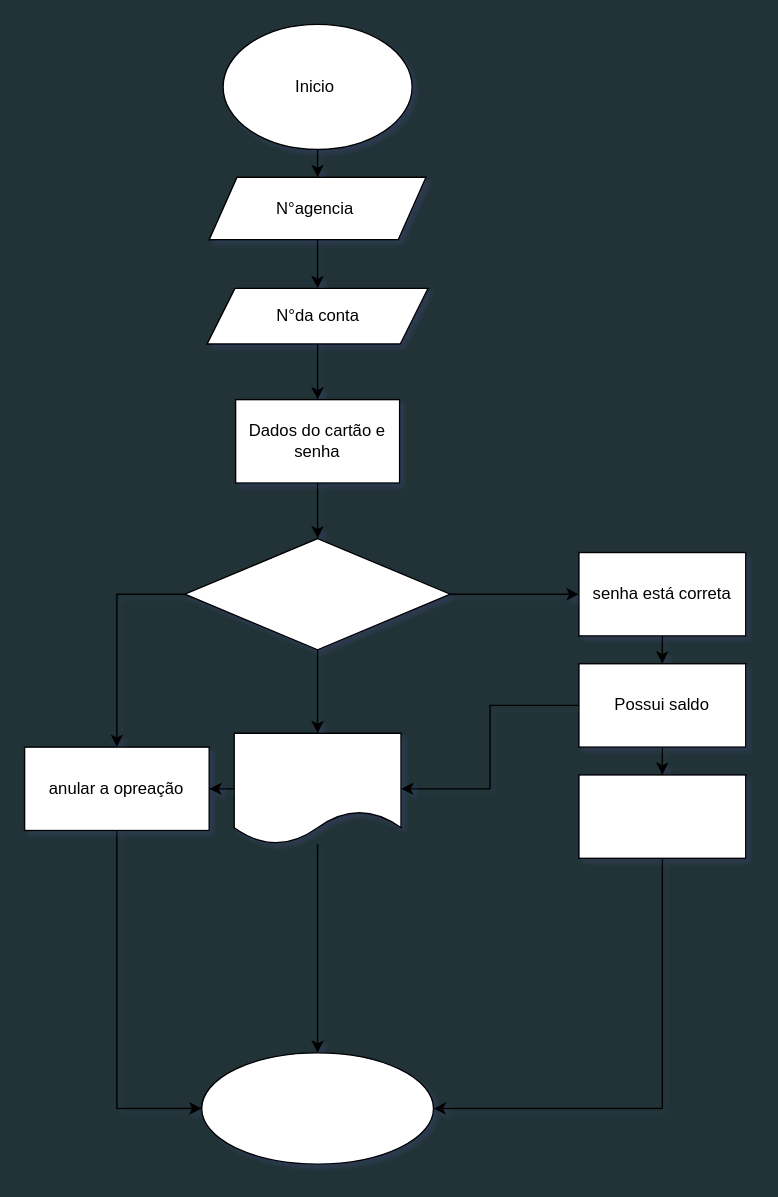
Some shapes in this 778 by 1197 pixel diagram are drawn without their labels. Here are the shapes that lost their labels. From the top down, the box of each, then its label:
(183, 537, 450, 650): Todos o dados estão corretos
(233, 732, 401, 844): saque aprovado
(578, 774, 746, 858): saque efetuado
(200, 1052, 434, 1164): Fim
